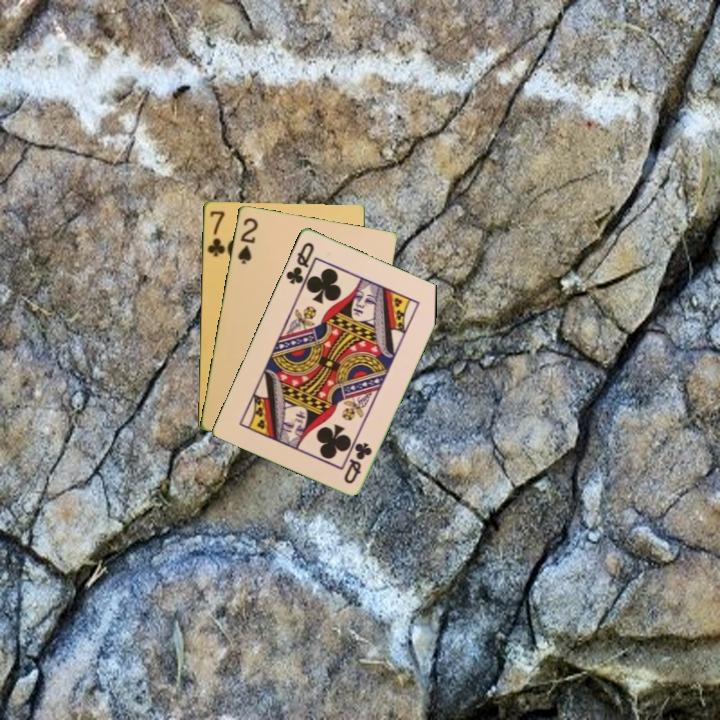2s: (234, 214, 261, 267)
7c: (204, 207, 228, 259)
Qc: (282, 238, 317, 287), (340, 438, 375, 486)
